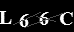6: (18, 13, 30, 28), (38, 11, 50, 26)
C: (58, 11, 74, 26)
L: (1, 9, 12, 25)
